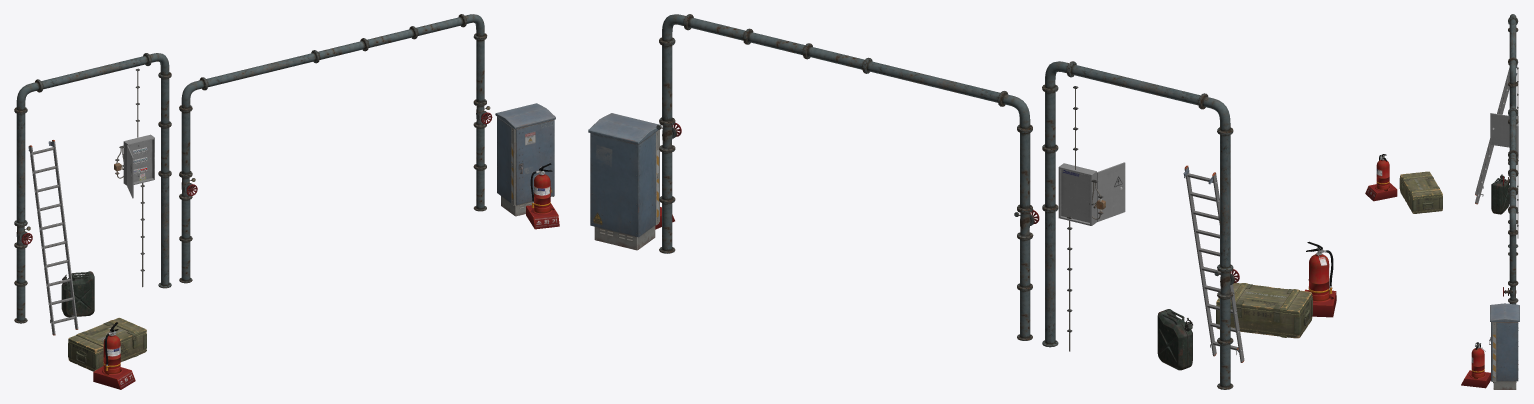
Rendered from props.glb.
3 views of the same model, side by side, from view 1: azimuth 30°, elevation 25°; view 2: azimuth 150°, elevation 25°; view 3: azimuth 270°, elevation 25° (orthographic). The views are drawn at different scales.
Parts seen in each view (by area): view 1: quadro_energia_0, escada_0, extintor_0, extintor2_0, galao_0, caixa_forca_0, caixote_2, caixote_0, tubo_insta.002, tubo_stand.006, tubo_insta.006, tubo_insta.003 (+7 smaller); view 2: quadro_energia_0, escada_0, caixa_forca_0, caixote_0, caixote_2, galao_0, extintor_0, tubo_stand.006, tubo_insta.002, tubo_insta.006, tubo_insta.003, caixa_forca_1 (+7 smaller); view 3: quadro_energia_0, caixote_2, extintor_0, extintor2_0, caixote_0, escada_0, caixa_forca_1, galao_0, tubo_stand.005, tubo_stand.006, tubo_insta.006, curva_stand_d (+6 smaller).
Part boxes in pixels (bbox=[...]): quadro_energia_0: bbox=[495, 103, 555, 216]; escada_0: bbox=[28, 140, 78, 335]; extintor_0: bbox=[93, 322, 135, 389]; extintor2_0: bbox=[526, 163, 559, 229]; galao_0: bbox=[61, 271, 94, 317]; caixa_forca_0: bbox=[123, 134, 154, 185]; caixote_2: bbox=[68, 317, 146, 352]; caixote_0: bbox=[68, 332, 146, 371]; tubo_insta.002: bbox=[14, 110, 27, 225]; tubo_stand.006: bbox=[203, 50, 318, 89]; tubo_insta.006: bbox=[37, 53, 150, 91]; tubo_insta.003: bbox=[158, 174, 171, 288]; quadro_energia_0: bbox=[588, 113, 661, 250]; escada_0: bbox=[1183, 165, 1244, 362]; caixa_forca_0: bbox=[1058, 163, 1096, 225]; caixote_0: bbox=[1216, 296, 1312, 338]; caixote_2: bbox=[1216, 283, 1312, 314]; galao_0: bbox=[1157, 309, 1192, 370]; extintor_0: bbox=[1305, 241, 1336, 317]; tubo_stand.006: bbox=[863, 58, 1003, 106]; tubo_insta.002: bbox=[1217, 131, 1233, 271]; tubo_insta.006: bbox=[1068, 61, 1204, 108]; tubo_insta.003: bbox=[1042, 208, 1058, 347]; caixa_forca_1: bbox=[1097, 162, 1125, 221]; quadro_energia_0: bbox=[1489, 303, 1519, 389]; caixote_2: bbox=[1400, 171, 1442, 198]; extintor_0: bbox=[1365, 154, 1397, 201]; extintor2_0: bbox=[1461, 342, 1490, 388]; caixote_0: bbox=[1399, 177, 1442, 213]; escada_0: bbox=[1475, 65, 1517, 204]; caixa_forca_1: bbox=[1490, 113, 1509, 147]; galao_0: bbox=[1491, 178, 1509, 214]; tubo_stand.005: bbox=[1508, 232, 1518, 285]; tubo_stand.006: bbox=[1508, 108, 1517, 152]; tubo_insta.006: bbox=[1508, 16, 1518, 59]; curva_stand_d: bbox=[1508, 205, 1518, 234].
Bounding box in the file's own units: 6.6 × 2.87 × 2.17.
12 materials, 12 textured.
